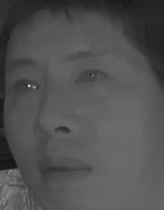eye: (73, 64, 111, 90), (10, 75, 41, 99)
mouth: (35, 153, 93, 188)
